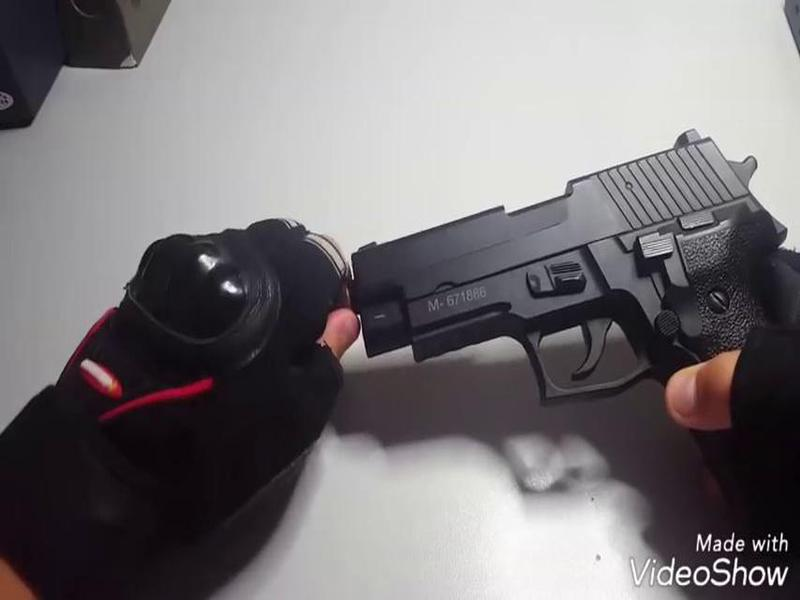Pistola: (351, 114, 800, 397)
